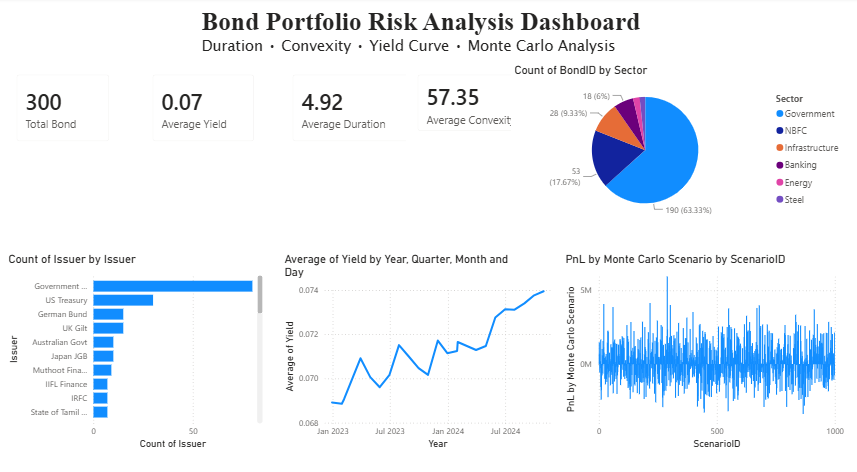

This screenshot's page, from the dashboard's own definition file:
{"tool":"powerbi","page":{"name":"Page 1","canvas":[1280,720],"ordinal":0},"visuals":[{"type":"cardVisual","fields":{"Data":["Avg(bond_portfolio_data.YieldToMaturity)"]},"box":[218.9,97,183.7,132.2],"z":1},{"type":"cardVisual","fields":{"Data":["Avg(bond_portfolio_data.ModifiedDuration)"]},"box":[424.7,97,205.7,132.2],"z":2},{"type":"cardVisual","fields":{"Data":["Avg(bond_portfolio_data.Convexity)"]},"box":[608.3,97,196.9,117.6],"z":3},{"type":"cardVisual","fields":{"Data":["Count(bond_portfolio_data.BondID)"]},"box":[19.1,97,170.4,132.2],"z":4},{"type":"pieChart","fields":{"Category":["bond_portfolio_data.Sector"],"Y":["CountNonNull(bond_portfolio_data.BondID)"]},"box":[762.6,97,495.2,235.1],"z":5},{"type":"clusteredBarChart","fields":{"Category":["bond_portfolio_data.Issuer"],"Y":["CountNonNull(bond_portfolio_data.Issuer)"]},"box":[19.1,374.7,383.5,293.9],"z":6},{"type":"lineChart","fields":{"Y":["Avg(yield_curve_history.Yield)"],"Category":["yield_curve_history.CurveDate.Variation.Date Hierarchy.Year","yield_curve_history.CurveDate.Variation.Date Hierarchy.Quarter","yield_curve_history.CurveDate.Variation.Date Hierarchy.Month","yield_curve_history.CurveDate.Variation.Date Hierarchy.Day"]},"box":[424.7,374.7,412.9,293.9],"z":7},{"type":"textbox","box":[302.4,8.4,786.1,89],"z":8},{"type":"clusteredColumnChart","fields":{"Category":["monte_carlo_scenarios.ScenarioID"],"Y":["Avg(monte_carlo_scenarios.PnL_Total_INR)"]},"box":[838,375,420,294],"z":9}]}

Visuals, with their boxes in screenshot pixels (x1, y1, x2, y2), scaled from the page's 1280x720 canvas onto the 857x472 screenshot:
cardVisual - Avg(bond_portfolio_data.YieldToMaturity): [left=147, top=64, right=270, bottom=150]
cardVisual - Avg(bond_portfolio_data.ModifiedDuration): [left=284, top=64, right=422, bottom=150]
cardVisual - Avg(bond_portfolio_data.Convexity): [left=407, top=64, right=539, bottom=141]
cardVisual - Count(bond_portfolio_data.BondID): [left=13, top=64, right=127, bottom=150]
pieChart - bond_portfolio_data.Sector x CountNonNull(bond_portfolio_data.BondID): [left=511, top=64, right=842, bottom=218]
clusteredBarChart - bond_portfolio_data.Issuer x CountNonNull(bond_portfolio_data.Issuer): [left=13, top=246, right=270, bottom=438]
lineChart - Avg(yield_curve_history.Yield) x yield_curve_history.CurveDate.Variation.Date Hierarchy.Year: [left=284, top=246, right=561, bottom=438]
textbox: [left=202, top=6, right=729, bottom=64]
clusteredColumnChart - monte_carlo_scenarios.ScenarioID x Avg(monte_carlo_scenarios.PnL_Total_INR): [left=561, top=246, right=842, bottom=439]
